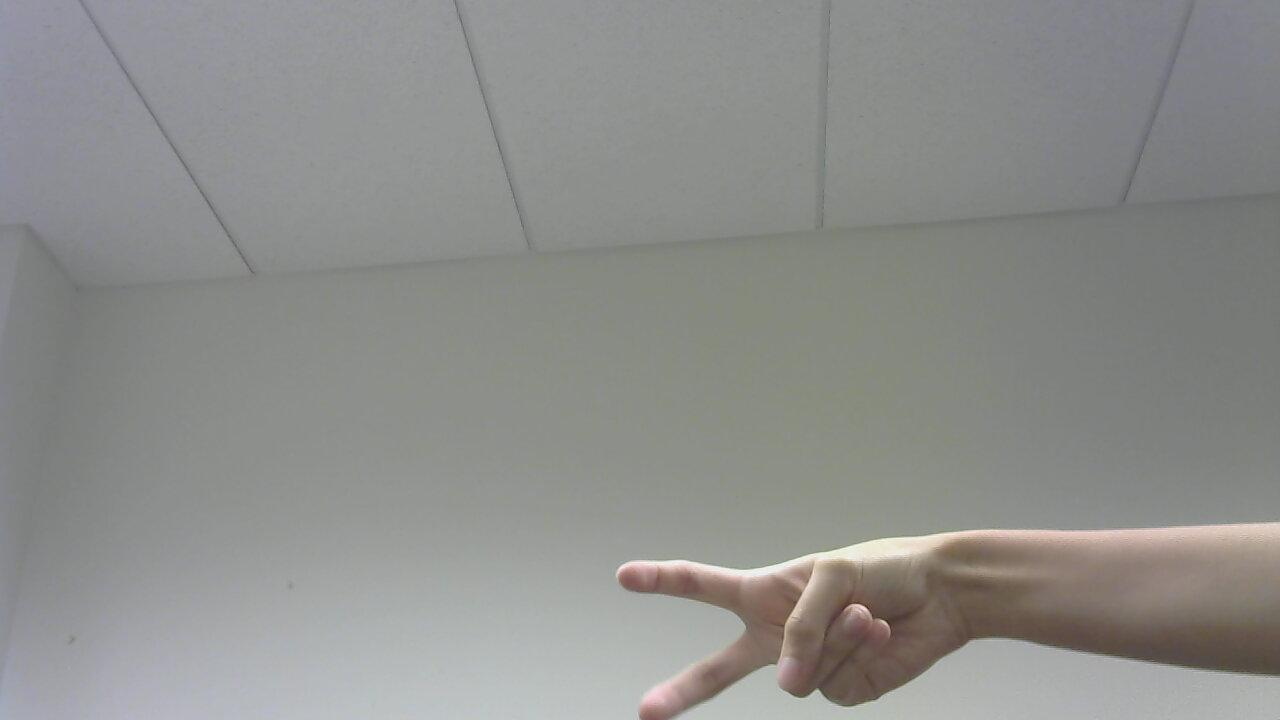peace: (608, 530, 959, 720)
